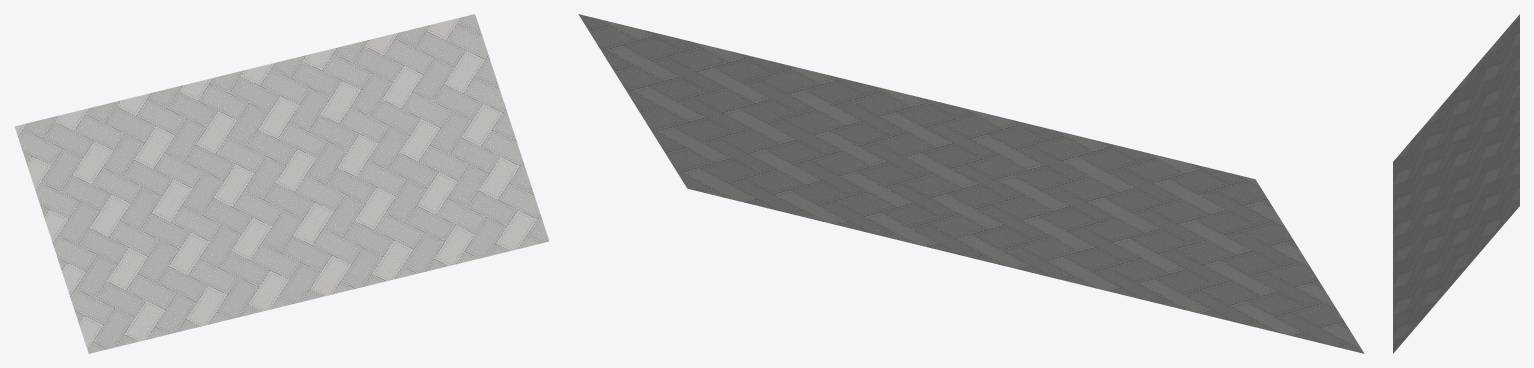
Rendered from kd_stage_135c43_2_14.glb.
3 renders of one model, left to right at view 1: azimuth 30°, elevation 25°; view 2: azimuth 150°, elevation 25°; view 3: azimuth 270°, elevation 25°, orthographic. The views are drawn at different scales.
Visible parts, largest first — view 1: kd_stage_135c43_2_14; view 2: kd_stage_135c43_2_14; view 3: kd_stage_135c43_2_14.
Boxes of the visible parts, x1,y1,x2,y2 form: kd_stage_135c43_2_14: (14, 14, 549, 353); kd_stage_135c43_2_14: (578, 14, 1364, 353); kd_stage_135c43_2_14: (1393, 14, 1519, 353).
Size of the model in its own units: 8.72 by 3.13 by 2.44.
1 material, 1 textured.
